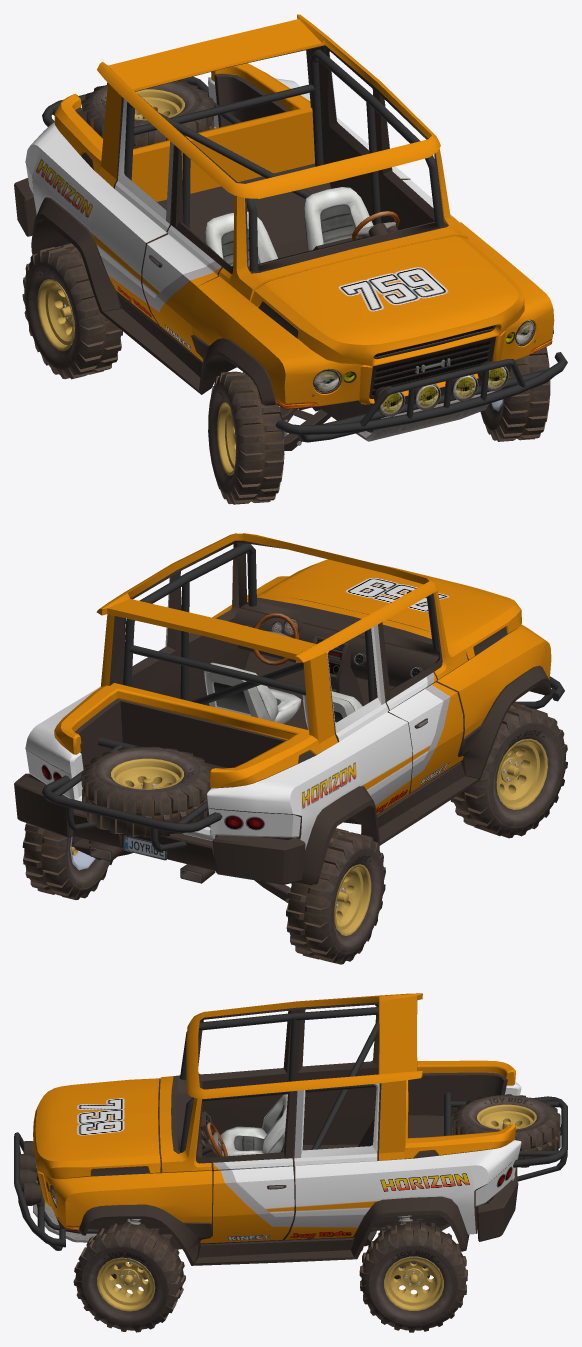
Rendered from car.glb.
3 views of the same model, one above another, from view 1: azimuth 30°, elevation 25°; view 2: azimuth 150°, elevation 25°; view 3: azimuth 270°, elevation 25° (orthographic). The views are drawn at different scales.
Visible parts, largest first — view 1: node_id120, node_id128, node_id118, node_id43, node_id113, node_id106, node_id36, node_id130, node_id92, node_id102, node_id104, node_id84 (+10 smaller); view 2: node_id120, node_id128, node_id118, node_id106, node_id84, node_id113, node_id115, node_id36, node_id109, node_id99, node_id111, node_id102 (+7 smaller); view 3: node_id120, node_id128, node_id92, node_id118, node_id99, node_id95, node_id88, node_id97, node_id90, node_id36, node_id115, node_id84 (+6 smaller).
Part boxes in pixels (<box>): node_id120: <box>25,14,554,406</box>; node_id128: <box>14,45,553,420</box>; node_id118: <box>124,49,443,271</box>; node_id43: <box>275,352,567,442</box>; node_id113: <box>209,371,284,504</box>; node_id106: <box>22,243,122,379</box>; node_id36: <box>205,187,373,266</box>; node_id130: <box>369,325,496,398</box>; node_id92: <box>480,347,550,441</box>; node_id102: <box>24,262,79,369</box>; node_id104: <box>37,279,74,351</box>; node_id84: <box>82,80,214,148</box>; node_id120: <box>25,533,551,849</box>; node_id128: <box>14,540,550,885</box>; node_id118: <box>123,543,438,704</box>; node_id106: <box>286,828,385,964</box>; node_id84: <box>81,746,211,837</box>; node_id113: <box>450,702,567,838</box>; node_id115: <box>42,737,226,852</box>; node_id36: <box>204,662,362,730</box>; node_id109: <box>487,722,563,828</box>; node_id99: <box>22,823,112,899</box>; node_id111: <box>496,738,547,809</box>; node_id102: <box>329,847,383,954</box>; node_id120: <box>33,993,521,1243</box>; node_id128: <box>46,1002,518,1265</box>; node_id92: <box>73,1222,185,1332</box>; node_id118: <box>180,1007,378,1152</box>; node_id99: <box>359,1221,467,1332</box>; node_id95: <box>369,1245,458,1325</box>; node_id88: <box>81,1246,168,1325</box>; node_id97: <box>384,1256,443,1310</box>; node_id90: <box>97,1257,155,1311</box>; node_id36: <box>220,1094,287,1156</box>; node_id115: <box>444,1092,567,1181</box>; node_id84: <box>452,1094,560,1167</box>.
Bounding box in the file's own units: 0.4965 × 0.4303 × 0.8927.
Materials: 51 (51 with a texture image).
